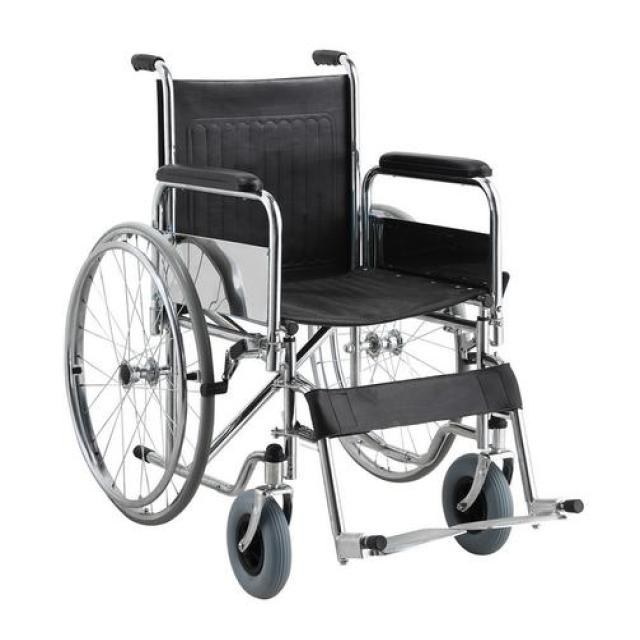wheelchairs: (51, 20, 603, 610)
